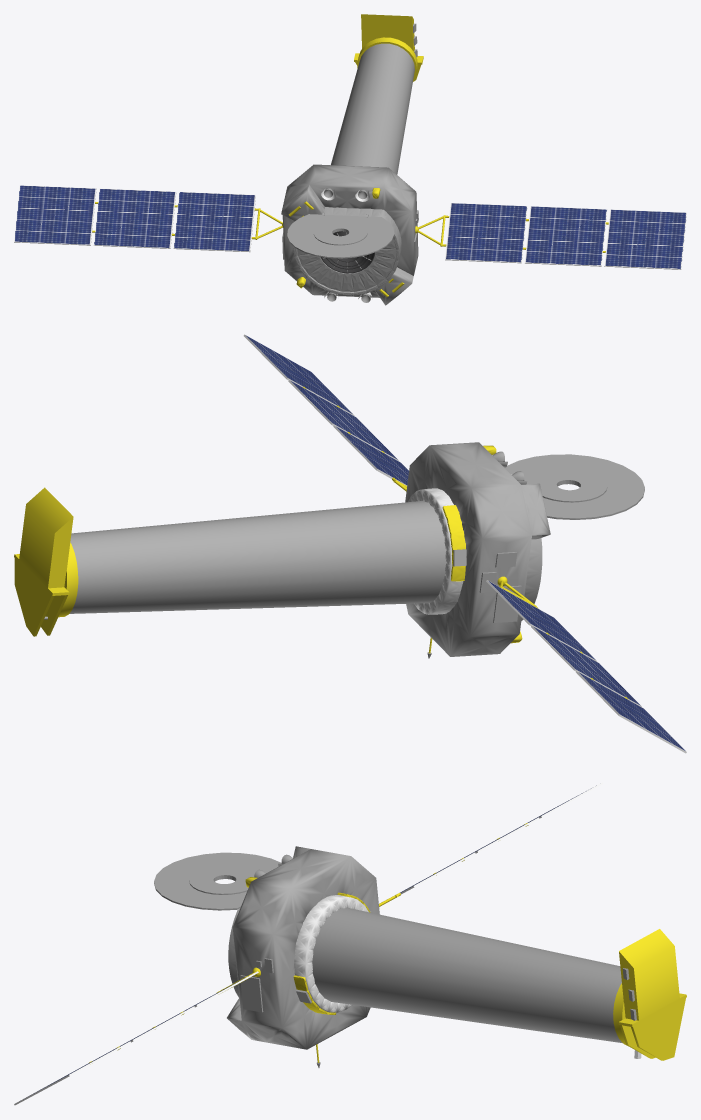
Rendered from chandra.gltf.
3 views of the same model, one above another, from view 1: azimuth 30°, elevation 25°; view 2: azimuth 150°, elevation 25°; view 3: azimuth 270°, elevation 25° (orthographic). The views are drawn at different scales.
Parts seen in each view (by area): view 1: Chandra_X_ray_Observatory, cube17, cube14, cube12, cube13, cube15, cube16; view 2: Chandra_X_ray_Observatory, cube14, cube15, cube12, cube13, cube17, cube16; view 3: Chandra_X_ray_Observatory, cube06.
Part boxes in pixels (box(x1,y1,x2,y2)): Chandra_X_ray_Observatory: box(281, 14, 420, 305); cube17: box(604, 209, 686, 269); cube14: box(14, 185, 96, 245); cube12: box(93, 188, 176, 248); cube13: box(173, 191, 255, 252); cube15: box(524, 206, 606, 266); cube16: box(445, 203, 527, 263); Chandra_X_ray_Observatory: box(14, 442, 644, 656); cube14: box(576, 671, 686, 753); cube15: box(288, 380, 399, 461); cube12: box(531, 625, 641, 706); cube13: box(486, 580, 596, 661); cube17: box(243, 334, 354, 415); cube16: box(333, 425, 408, 485); Chandra_X_ray_Observatory: box(154, 846, 685, 1060); cube06: box(240, 975, 263, 1012).
Size of the model in its own units: 6.62 by 2.12 by 5.91.
Materials: 10 (1 with a texture image).
